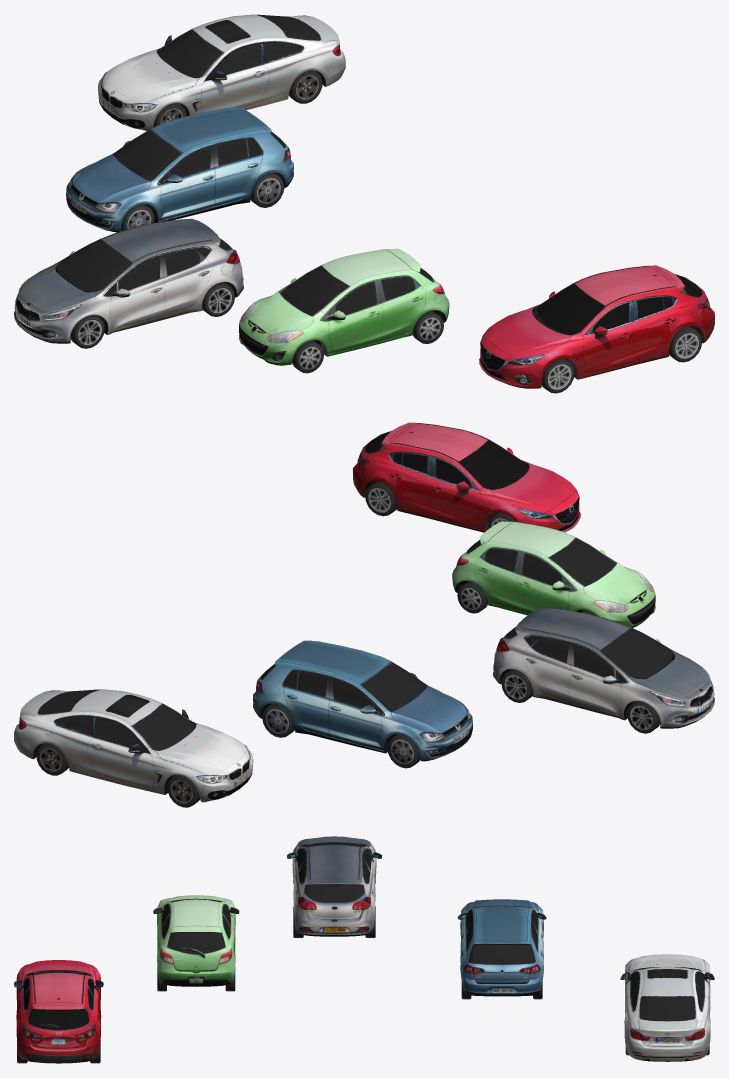
File: traffic.fbx
3 views of the same model, one above another, from view 1: azimuth 30°, elevation 25°; view 2: azimuth 150°, elevation 25°; view 3: azimuth 270°, elevation 25° (orthographic). The views are drawn at different scales.
Visible parts, largest first — view 1: Car_5, Car_1, Car_3, Car_2, Car_4, arka_teker_4, arka_teker_1, on_teker_4, on_teker_2, arka_teker_2, arka_teker, arka_teker_3 (+2 smaller); view 2: Car_1, Car_3, Car_5, Car_2, Car_4, on_teker_1, arka_teker_4, arka_teker_1, on_teker_2, arka_teker_2, on_teker, arka_teker (+1 smaller); view 3: Car_1, Car_5, Car_3, Car_2, Car_4.
Boxes of the visible parts, <box> form: Car_5: <box>479,265,714,388</box>; Car_1: <box>98,14,345,130</box>; Car_3: <box>14,218,243,343</box>; Car_2: <box>66,107,293,232</box>; Car_4: <box>239,248,449,365</box>; arka_teker_4: <box>669,326,702,362</box>; arka_teker_1: <box>250,172,284,207</box>; on_teker_4: <box>541,358,574,393</box>; on_teker_2: <box>70,315,104,348</box>; arka_teker_2: <box>202,282,234,316</box>; arka_teker: <box>288,70,322,103</box>; arka_teker_3: <box>412,310,443,343</box>; Car_1: <box>14,689,253,802</box>; Car_3: <box>493,608,714,728</box>; Car_5: <box>352,422,580,532</box>; Car_2: <box>253,640,473,761</box>; Car_4: <box>452,521,655,627</box>; on_teker_1: <box>387,733,419,768</box>; arka_teker_4: <box>365,481,397,516</box>; arka_teker_1: <box>262,703,294,737</box>; on_teker_2: <box>627,701,660,733</box>; arka_teker_2: <box>501,669,533,702</box>; on_teker: <box>167,774,199,807</box>; arka_teker: <box>36,743,68,775</box>; Car_1: <box>620,954,714,1061</box>; Car_5: <box>14,960,103,1063</box>; Car_3: <box>287,836,381,936</box>; Car_2: <box>457,899,546,996</box>; Car_4: <box>153,895,239,986</box>.
Size of the model in its own units: 161 by 22.35 by 223.
6 materials, 6 textured.
